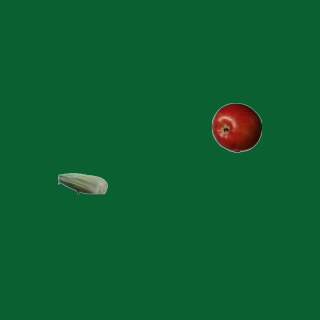Apple Braeburn: (211, 102, 261, 152)
Corn Husk: (57, 158, 107, 208)
